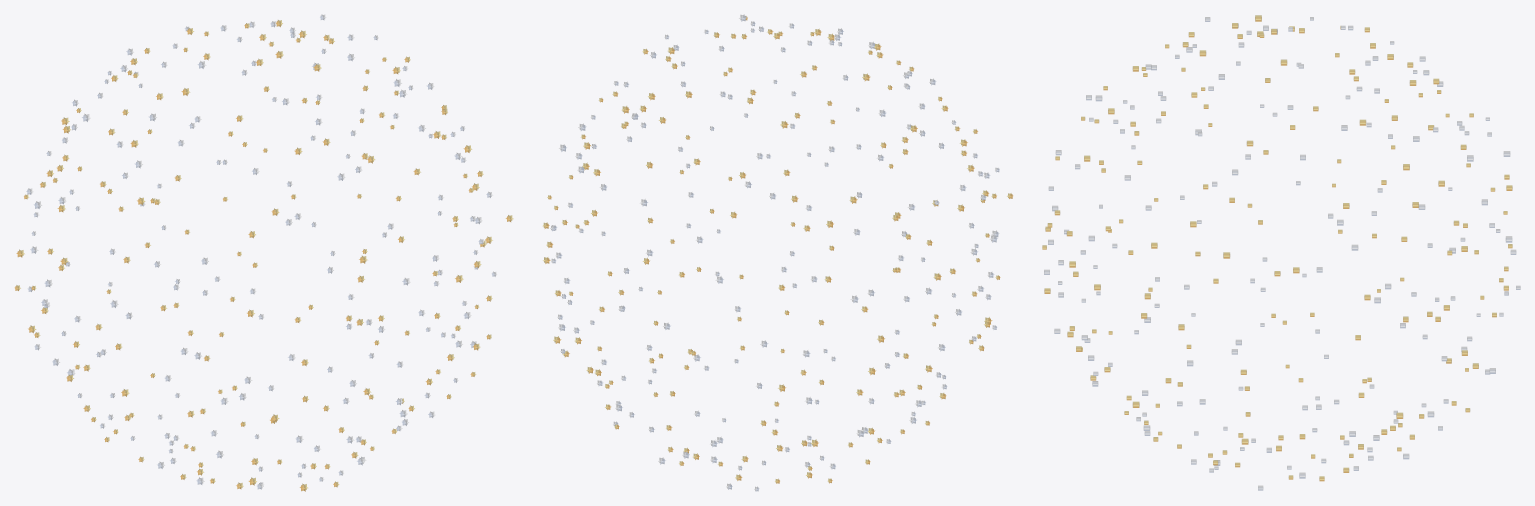
The model's file is fw_peony_purple_pink_c.glb.
3 views of the same model, side by side, from view 1: azimuth 30°, elevation 25°; view 2: azimuth 150°, elevation 25°; view 3: azimuth 270°, elevation 25° (orthographic). The views are drawn at different scales.
Parts seen in each view (by area): view 1: spire; view 2: spire; view 3: spire.
Boxes of the visible parts, bbox=[...] form: spire: bbox=[14, 14, 513, 491]; spire: bbox=[543, 14, 1013, 491]; spire: bbox=[1042, 15, 1520, 490].
Size of the model in its own units: 23.31 by 23.77 by 23.54.
Materials: 2 (2 with a texture image).
